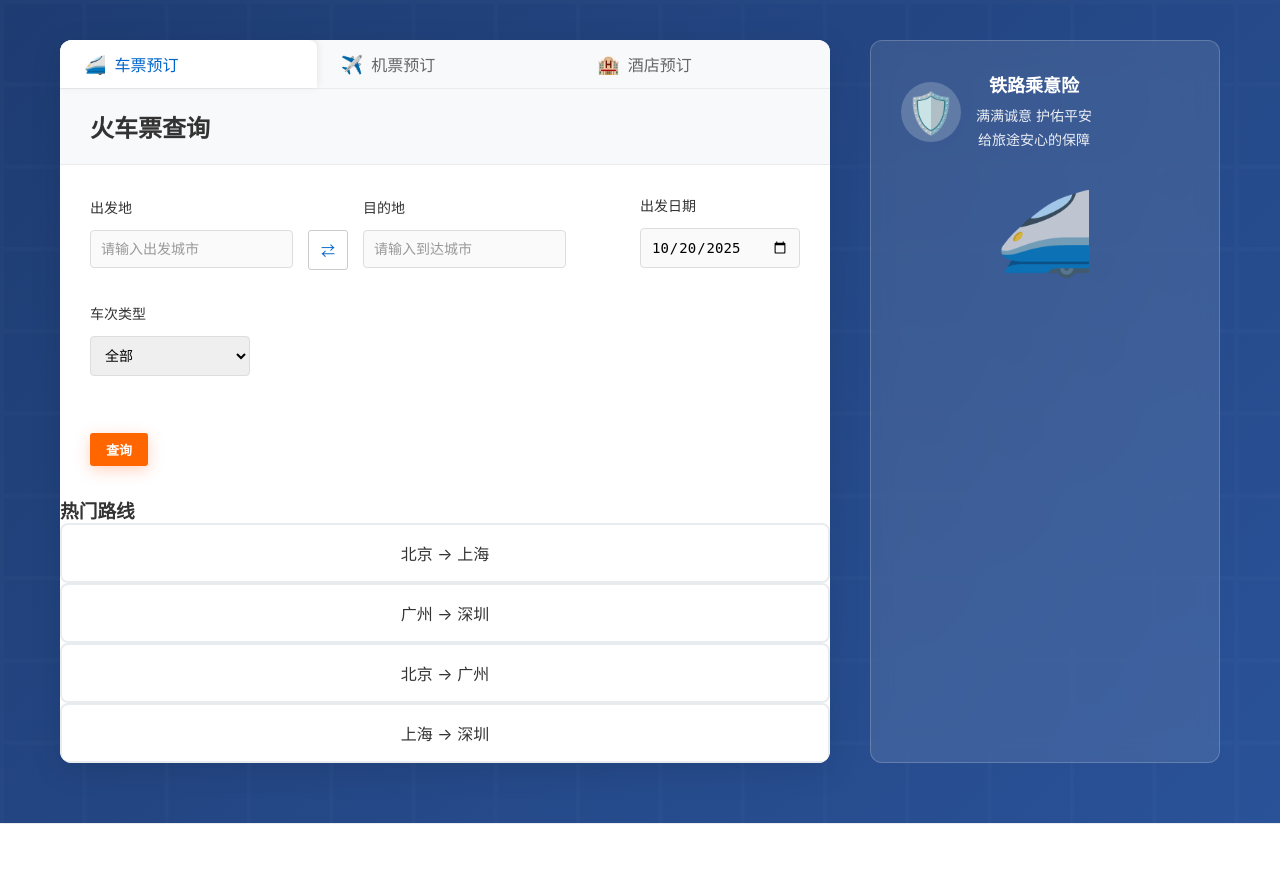
Test: HomePage Component › 应该支持出发地和目的地互换
The width and height of the screenshot is (1280, 885).
填写出发地和目的地
In the field labelled "出发地": (192, 249) [90,230,293,268], type "北京"
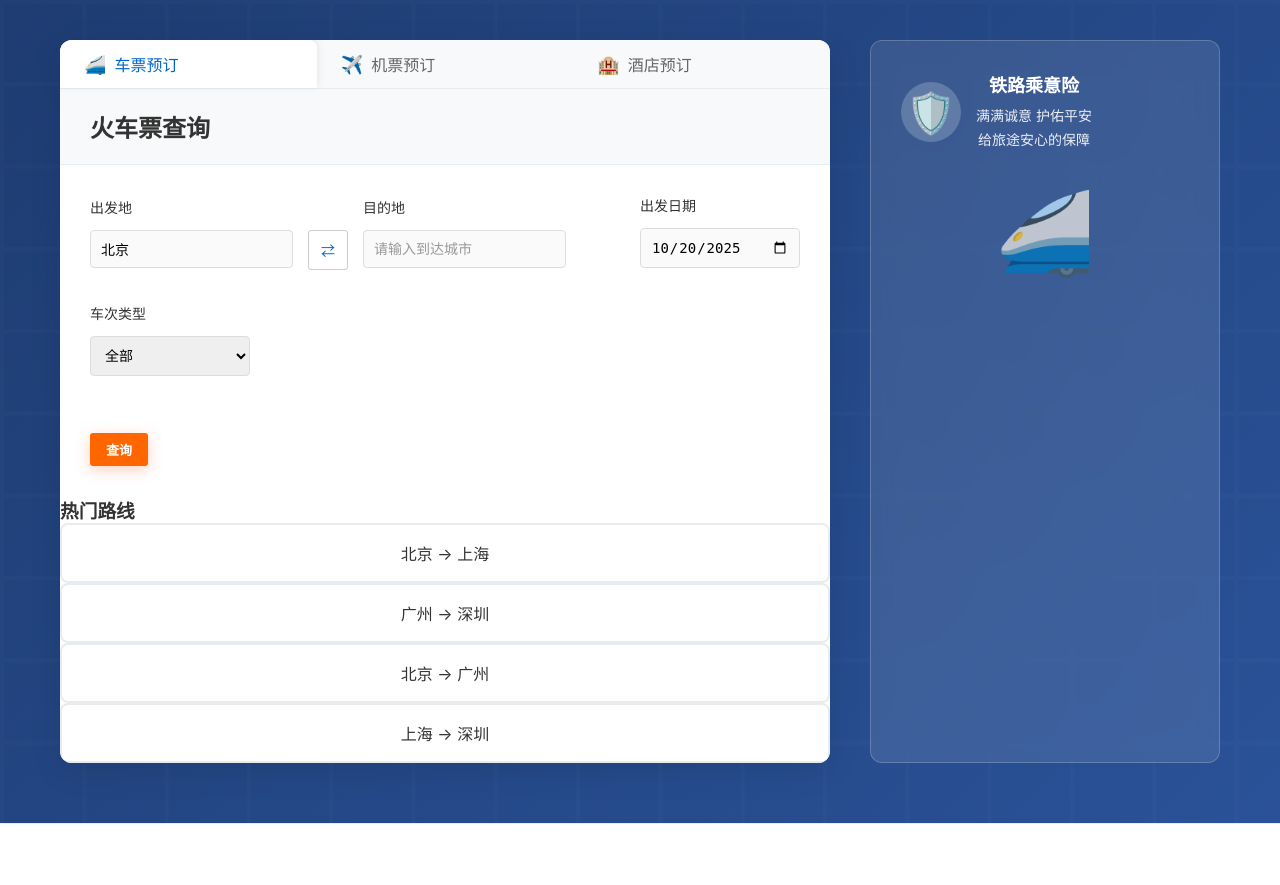
In the field labelled "目的地": (464, 249) [363,230,566,268], type "上海"
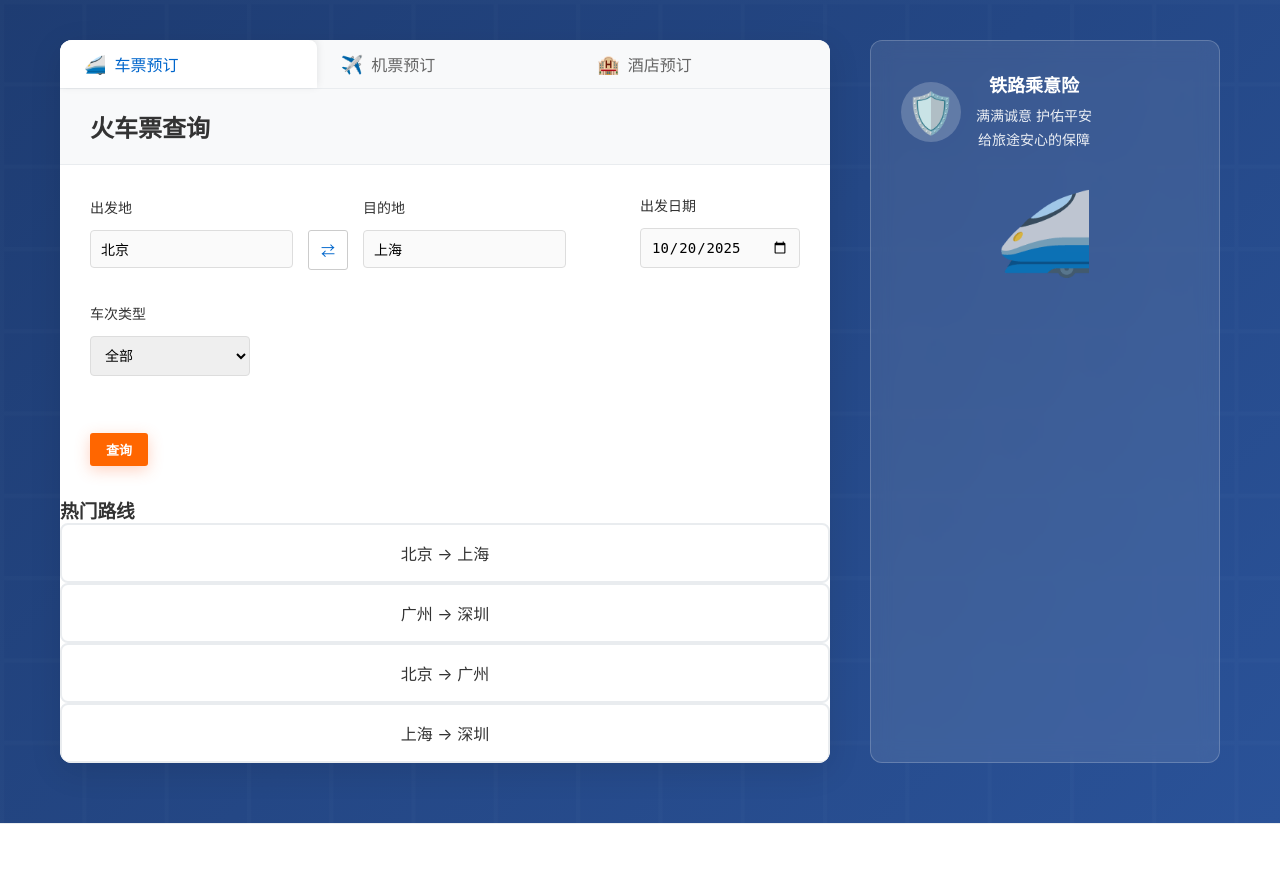
查找并点击互换按钮
Click the button "⇄": (328, 250) [308,230,348,270]
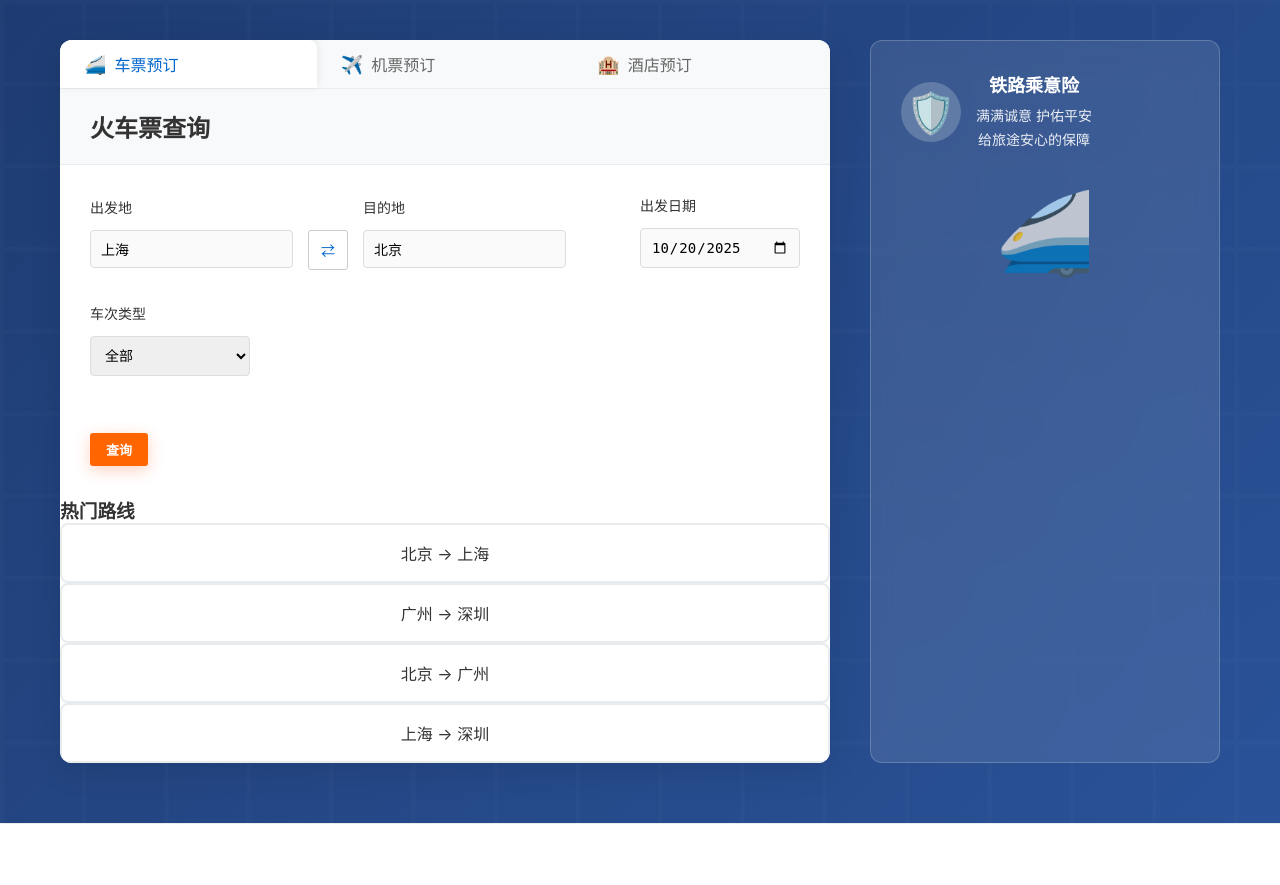
Result: the field labelled "出发地" holds "上海" at [90,230,293,268]
Result: the field labelled "目的地" holds "北京" at [363,230,566,268]
